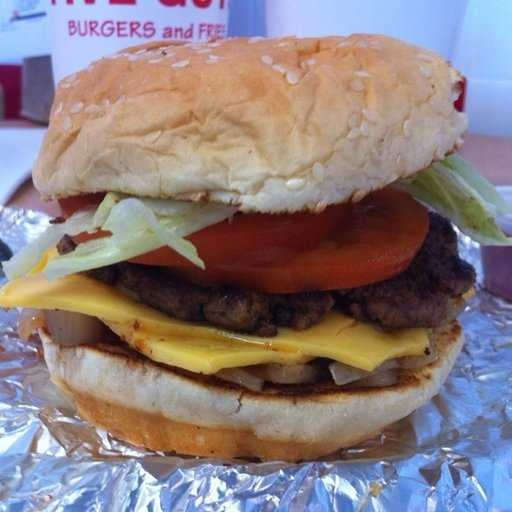hamburger: (36, 38, 474, 459)
